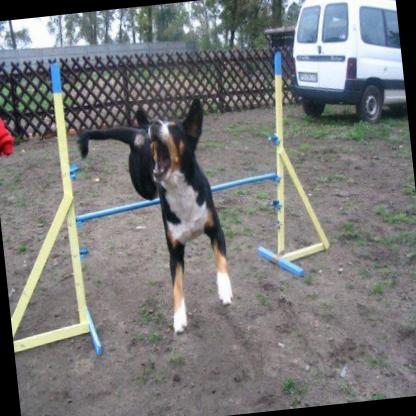EntleBucher: (70, 93, 236, 341)
